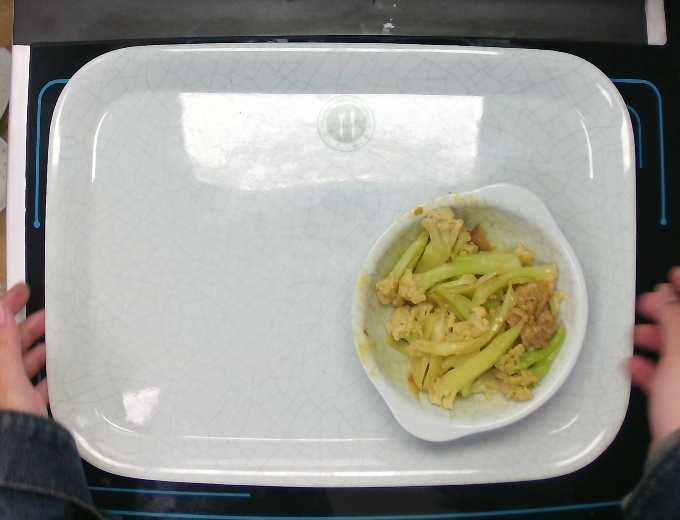JYsf-Shuang_Er_Wan: (344, 173, 592, 446)
